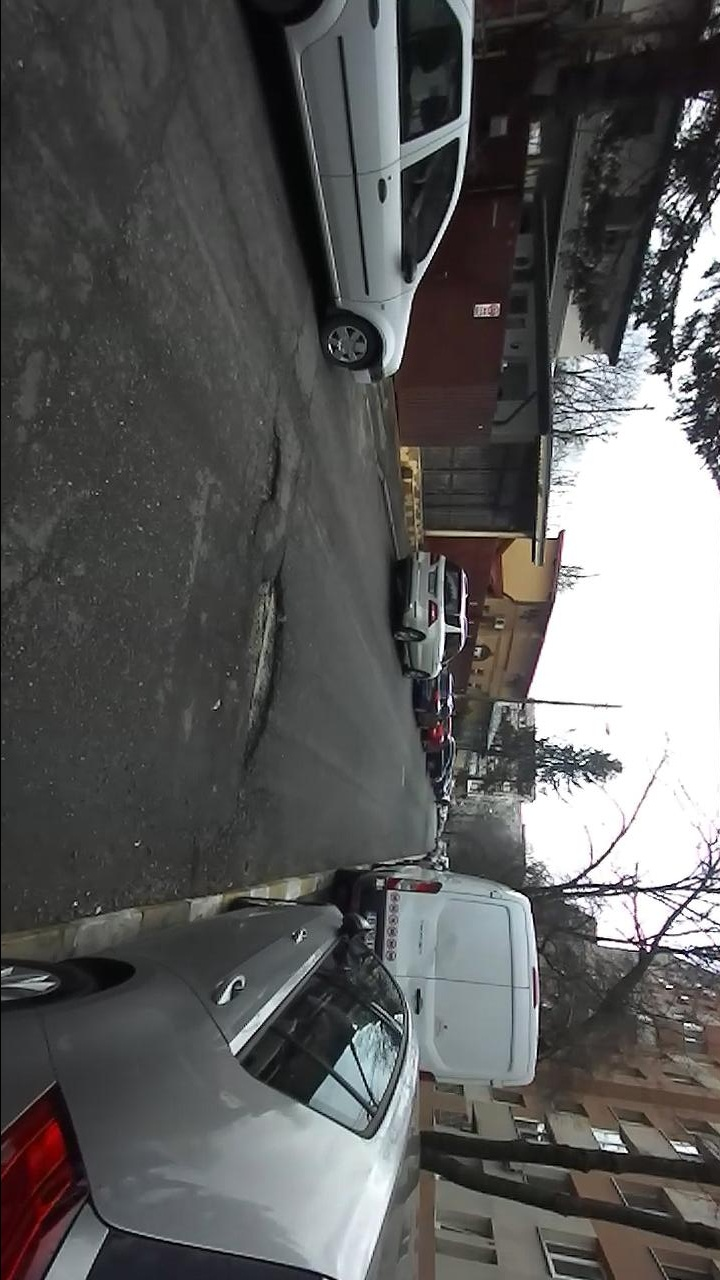pothole: (231, 548, 292, 784), (249, 420, 289, 539)
